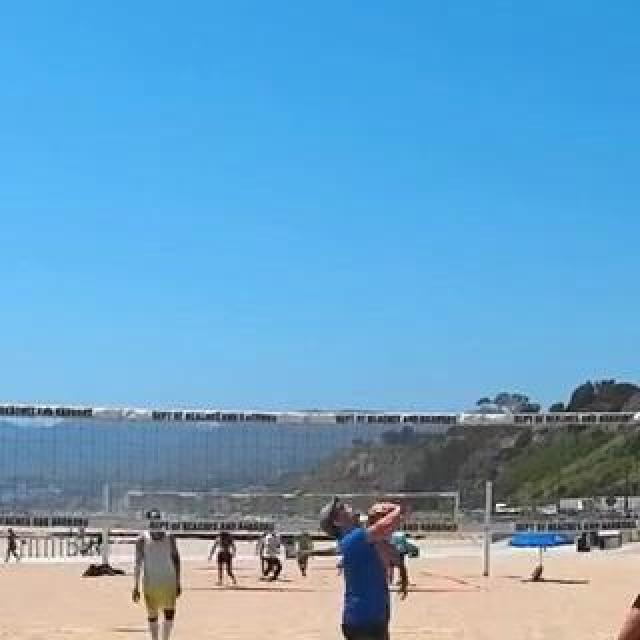volleyball: (368, 502, 400, 534)
